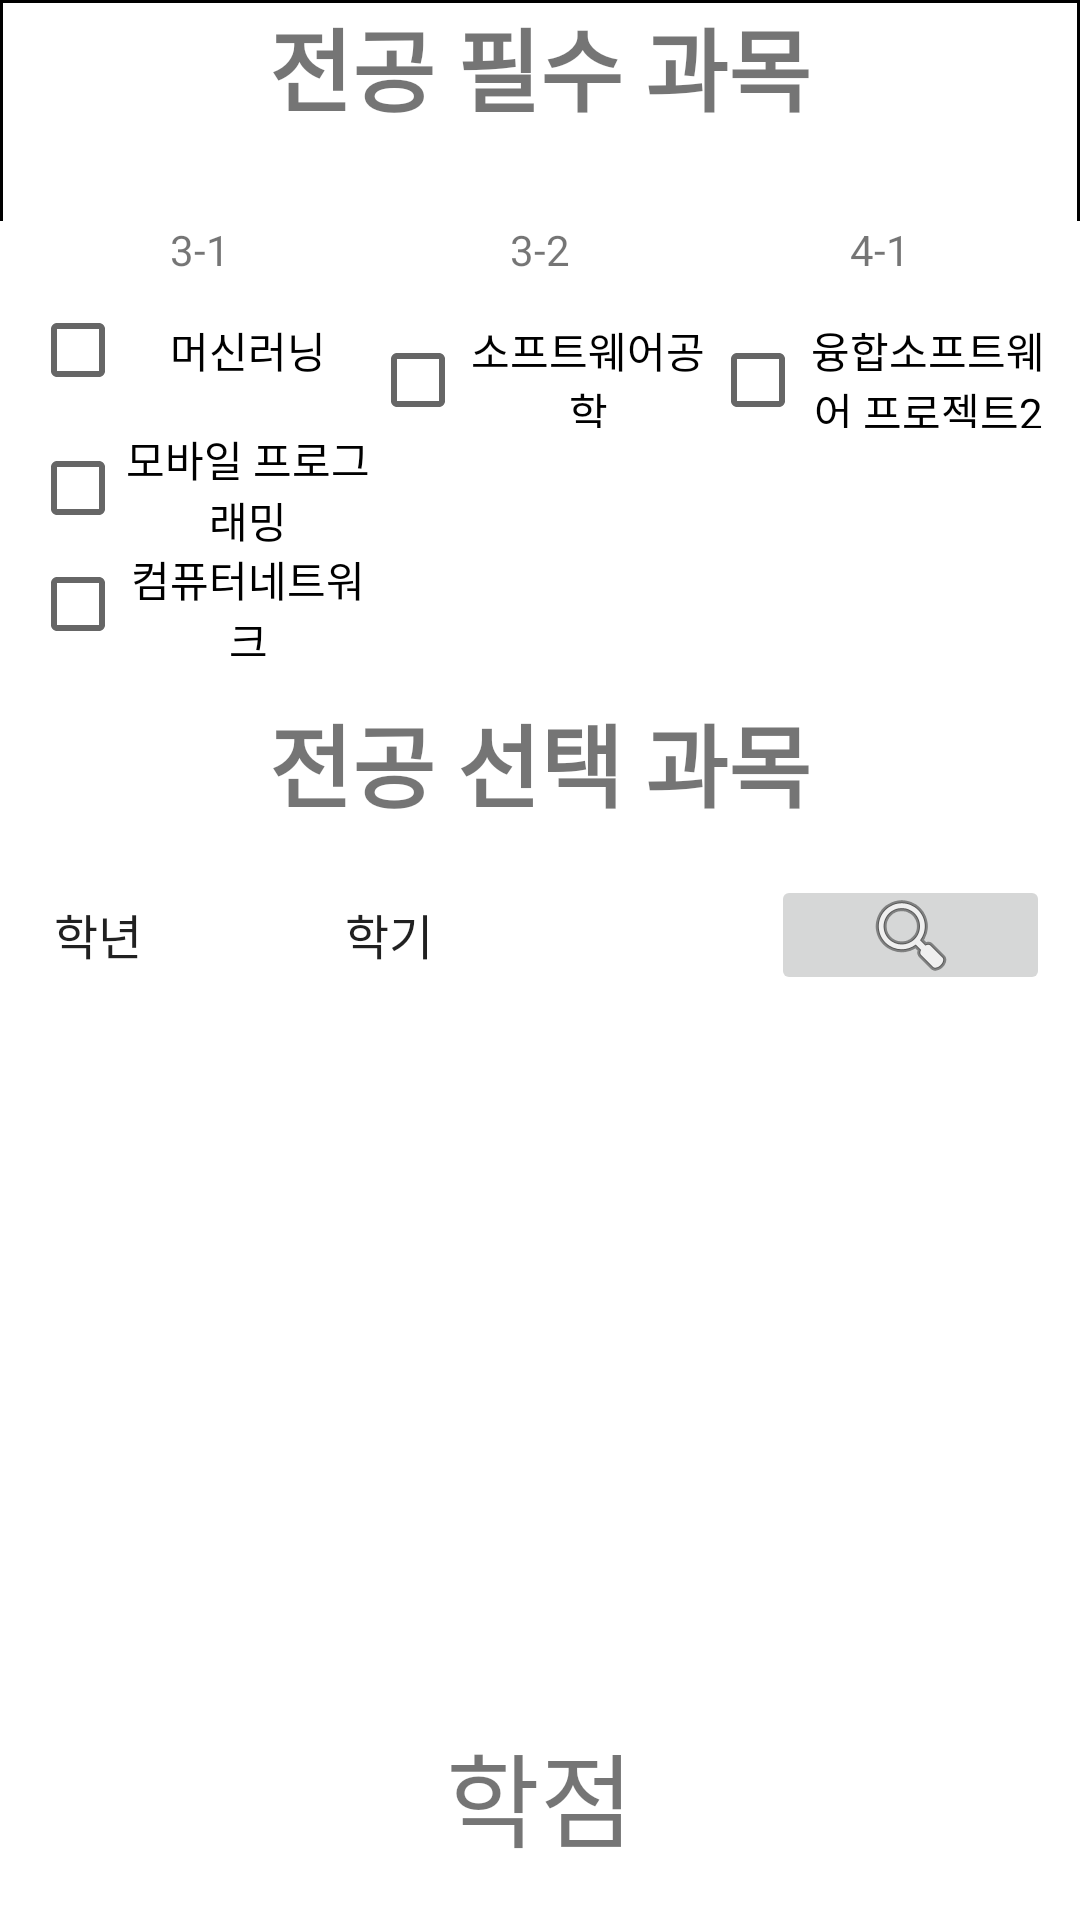

Icons on this 1080w x 1920h Android screen, each with its box as (x1, y1, x2, y2):
search: (783, 893, 1038, 977)
